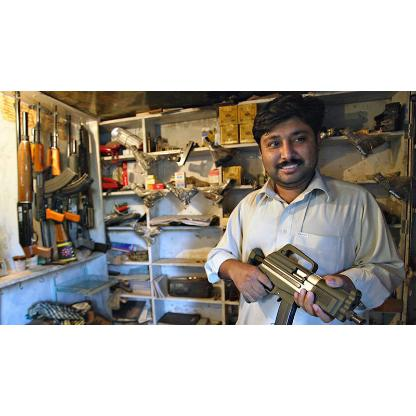gun: (240, 246, 364, 324), (9, 93, 51, 257), (124, 181, 166, 205), (127, 145, 162, 171), (198, 178, 234, 202), (166, 140, 194, 164)
